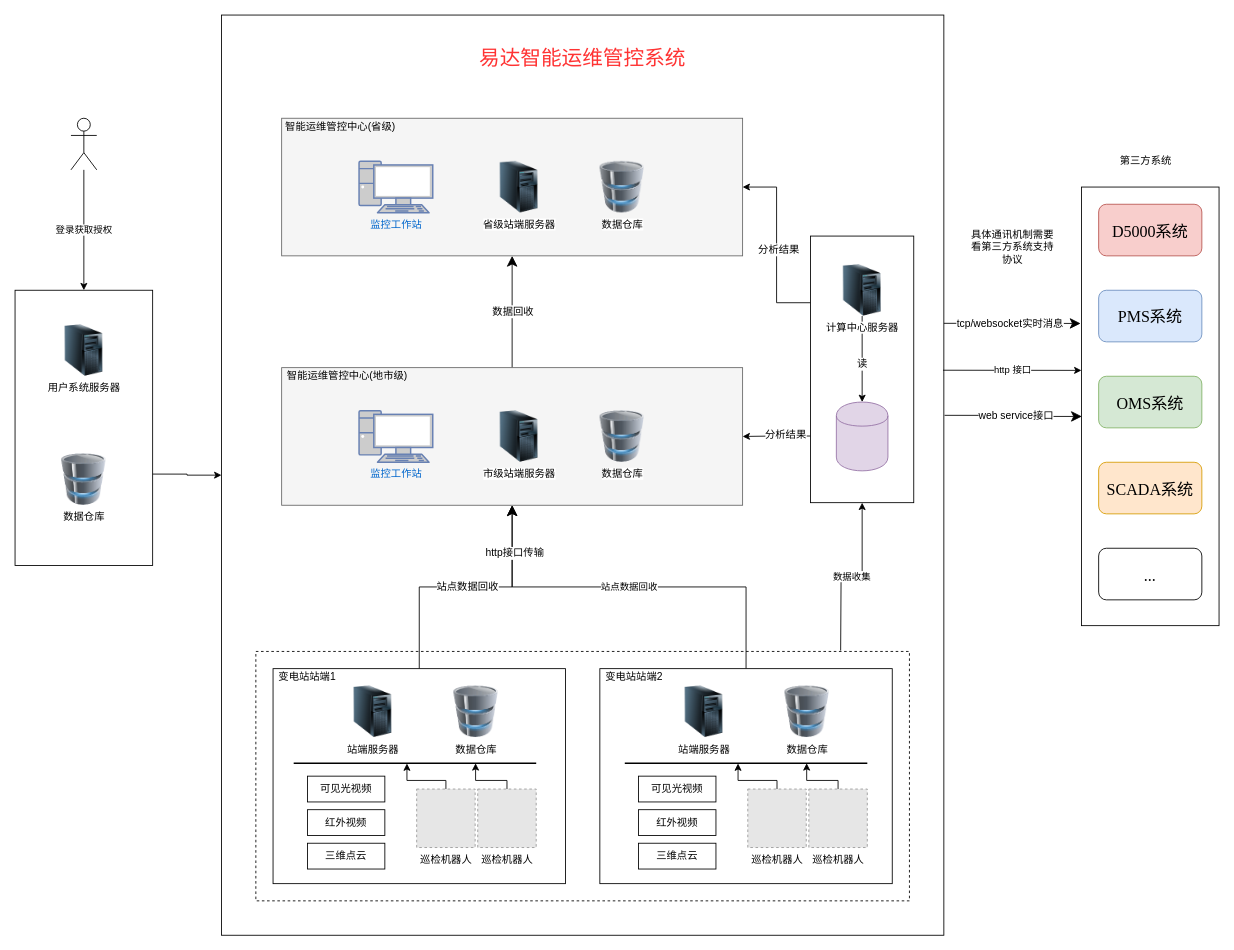
The diagram is 1234 pixels wide and 950 high, and some of its shapes have lost their labels. Grey dashed boxes stand in for pictures. Here are the shapes that lost their labels. From the top down, the centre of each, then its label:
point (83, 143): 站点操作人员
point (861, 436): 大数据存储库
